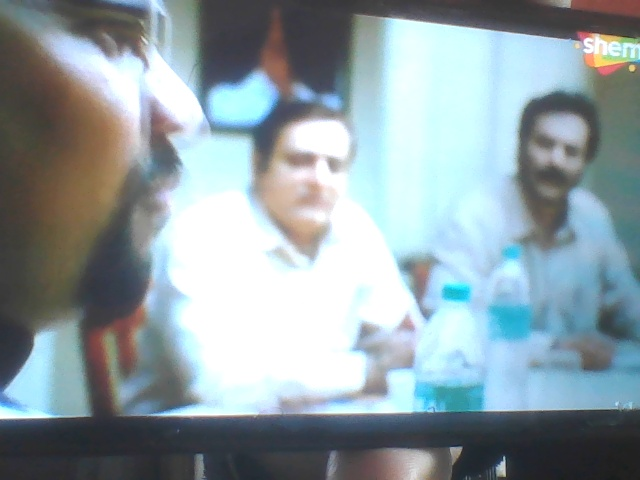fake: (253, 91, 362, 245)
